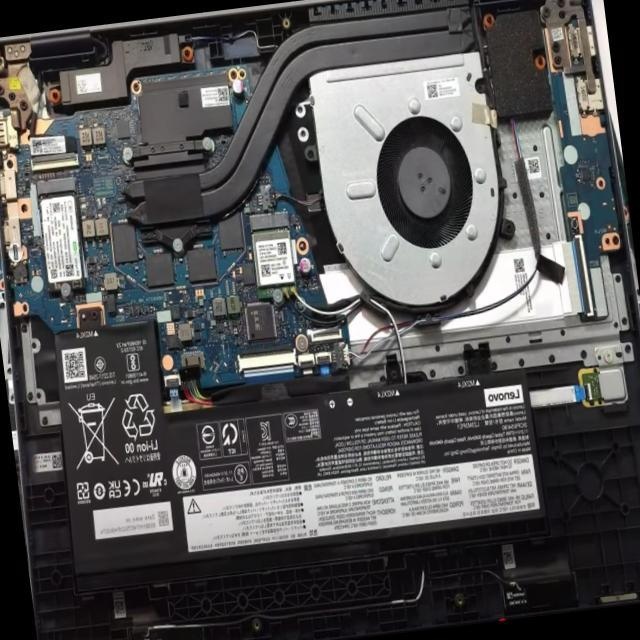Battery: (33, 176, 90, 300)
RAM: (57, 367, 542, 576)
